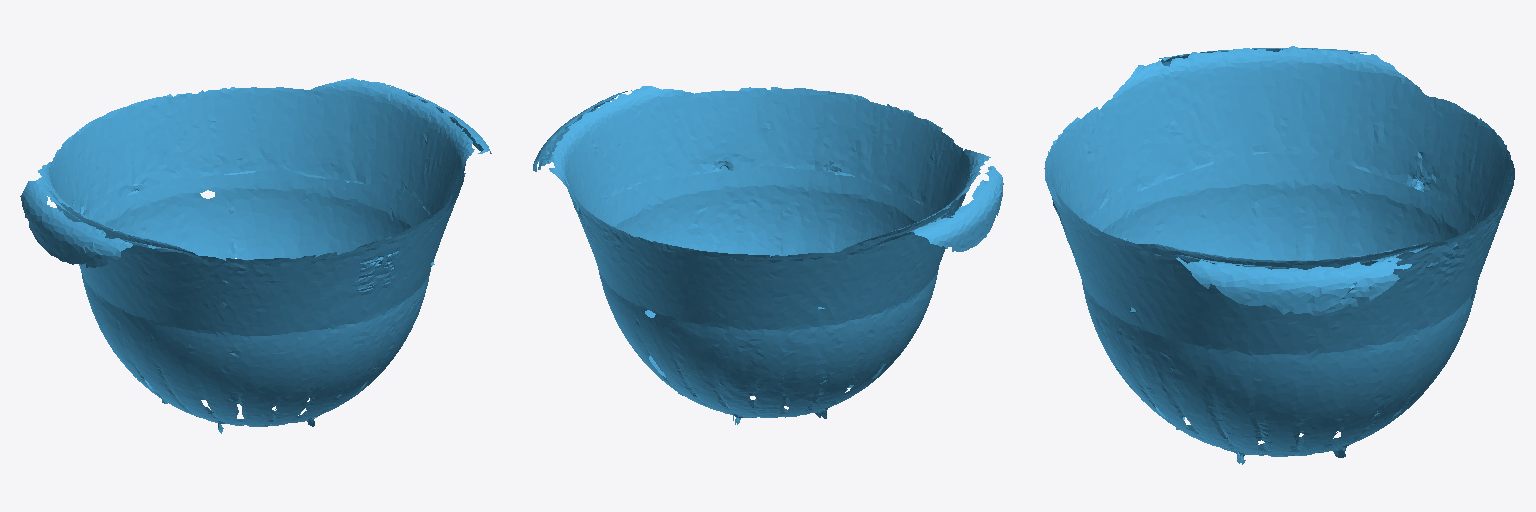
URDF robot description (graspable):
<?xml version="1.0" ?>
<!-- =================================================================================== -->
<!-- |    This document was autogenerated by xacro from [local-path]/ws_velma/underlay/src/barrett_hand_robot/barrett_hand_defs/robots/barrett_hand.urdf.xml | -->
<!-- |    EDITING THIS FILE BY HAND IS NOT RECOMMENDED                                 | -->
<!-- =================================================================================== -->
<robot name="graspable" xmlns:controller="http://playerstage.sourceforge.net/gazebo/xmlschema/#controller" xmlns:geom="http://playerstage.sourceforge.net/gazebo/xmlschema/#geom" xmlns:interface="http://playerstage.sourceforge.net/gazebo/xmlschema/#interface" xmlns:sensor="http://playerstage.sourceforge.net/gazebo/xmlschema/#sensor" xmlns:xacro="http://www.ros.org/wiki/xacro">
  <material name="DarkGrey">
    <color rgba="0.3 0.3 0.3 1.0"/>
  </material>
  <material name="Red">
    <color rgba="0.3 0.3 0.3 1.0"/>
  </material>
  <material name="Black">
    <color rgba="0 0 0 1.0"/>
  </material>
  <material name="Orange">
    <color rgba="1.0 0.487 0 1.0"/>
  </material>
  <material name="Silver">
    <color rgba="1.0 1.0 1.0 1.0"/>
  </material>
  <material name="Grey">
    <color rgba="0.7 0.7 0.7 1.0"/>
  </material>
  <material name="Blue">
    <color rgba="0.0 0.0 0.8 1.0"/>
  </material>
  <material name="HandGray">
    <color rgba="0.953 0.996 0.694 1.0"/>
  </material>
  <material name="SickBlue">
    <color rgba="0.3058 0.5921 0.7294 1.0"/>
  </material>
  <link name="world"/>
  <joint name="arm_world_joint" type="floating">
    <origin rpy="0 0 0" xyz="0 0 0"/>
    <parent link="world"/>
    <child link="graspable"/>
  </joint>
  <link name="graspable">
    <inertial>
      <origin xyz="0.0 0.0 0.0"/>
      <mass value="0.63352875"/>
      <inertia ixx="0.00102103" ixy="0.00000775" ixz="-0.00001230" iyy="0.00080944" iyz="-0.00014417" izz="0.00068788"/>
    </inertial>
    <visual>
      <origin rpy="0 0 0" xyz="0 0 0"/>
      <geometry>
        <mesh filename="package://barrett_hand_sim_dart/meshes/container_2d.stl"/>
      </geometry>
    </visual>
    <!-- collision mesh used for whole arm motion planning -->
    <!-- collision mesh used for grasp planning -->
    <collision>
      <origin rpy="0 0 0" xyz="0 0 0"/>
      <geometry>
        <mesh filename="package://barrett_hand_sim_dart/meshes/container_2d.stl"/>
      </geometry>
    </collision>
  </link>
</robot>

--- What the picture shows (computed from the rendered views, not written in the file) ---
The picture shows the robot from 3 angles, left to right: view 1: azimuth 30°, elevation 25°; view 2: azimuth 150°, elevation 25°; view 3: azimuth 270°, elevation 25°; orthographic projection.
Robot: graspable — 2 links, 1 joints (1 floating); root link world; default pose: all joints at 0.
Visible links, largest first — view 1: graspable; view 2: graspable; view 3: graspable.
Boxes of the visible links, bbox=[...] form: graspable: bbox=[20, 78, 491, 433]; graspable: bbox=[533, 86, 1003, 424]; graspable: bbox=[1044, 46, 1514, 464].
Size in the robot's own frame: 0.2766 by 0.2358 by 0.151 metres.
1 mesh visuals loaded from 1 distinct referenced files (1 binary STL).
